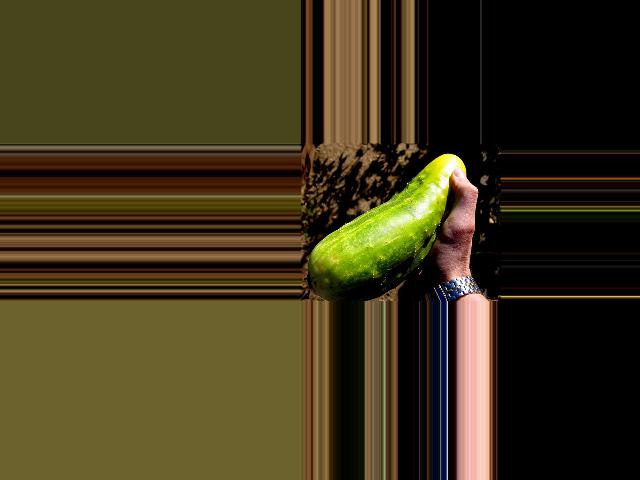cucumber: (306, 154, 466, 302)
